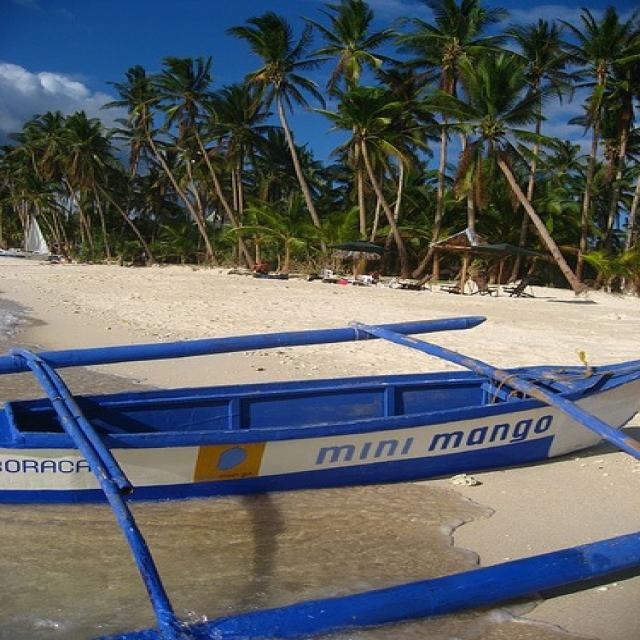boat: (2, 317, 638, 639)
